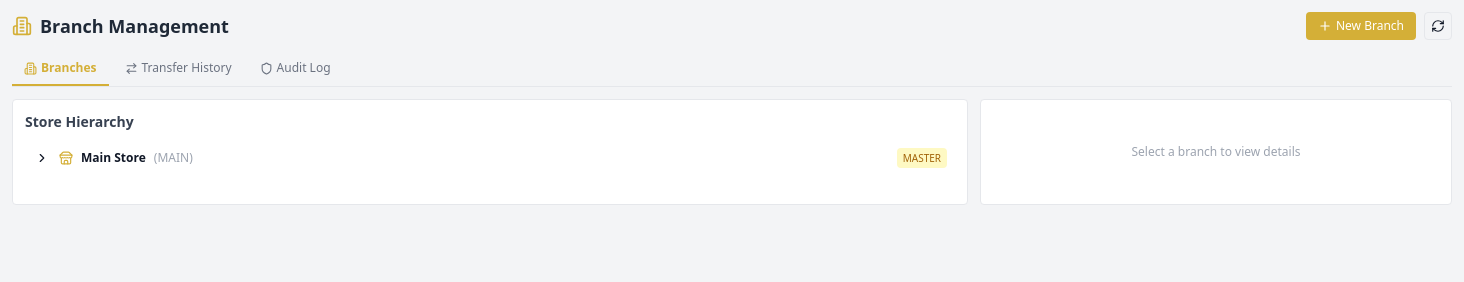
Scenario: BranchManagement — Store Hierarchy › shows children under master when expanded
Expected: the text "Main Store" is shown, [81, 150, 146, 166]
// Expand master
Click the button without text next to "Main Store" at (42, 158), box [33, 149, 51, 167]
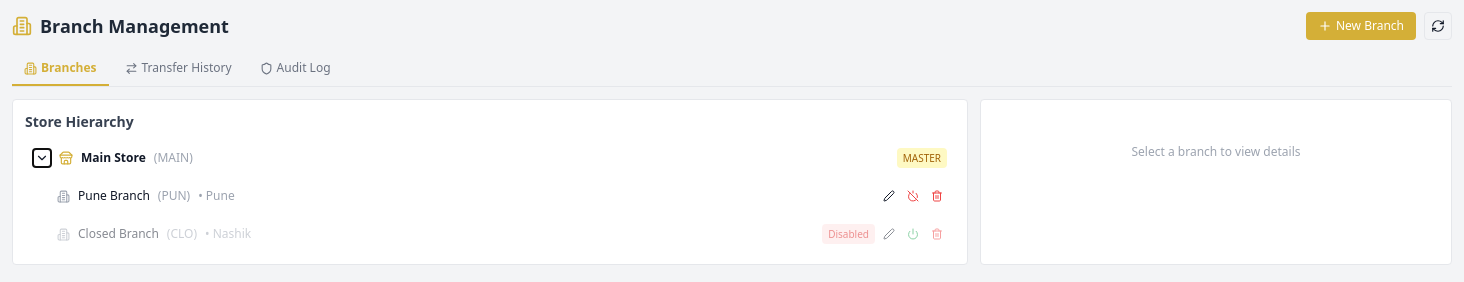
Expected: the text "Pune Branch" is shown, [78, 188, 150, 204]
Expected: the text "Closed Branch" is shown, [78, 226, 159, 242]
